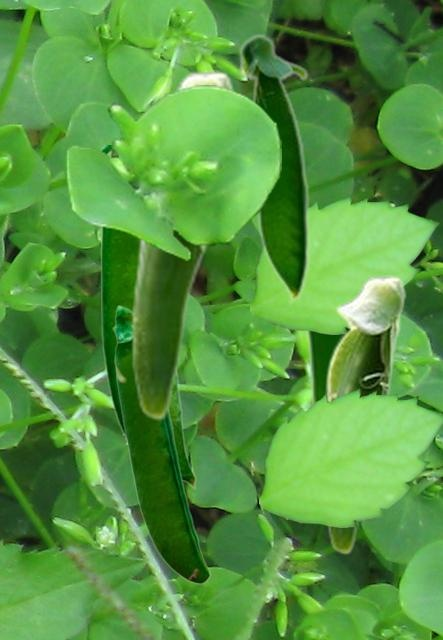pea: (130, 70, 234, 420), (101, 145, 195, 488), (112, 304, 209, 583), (323, 275, 406, 554), (237, 32, 309, 305), (302, 331, 339, 407)
